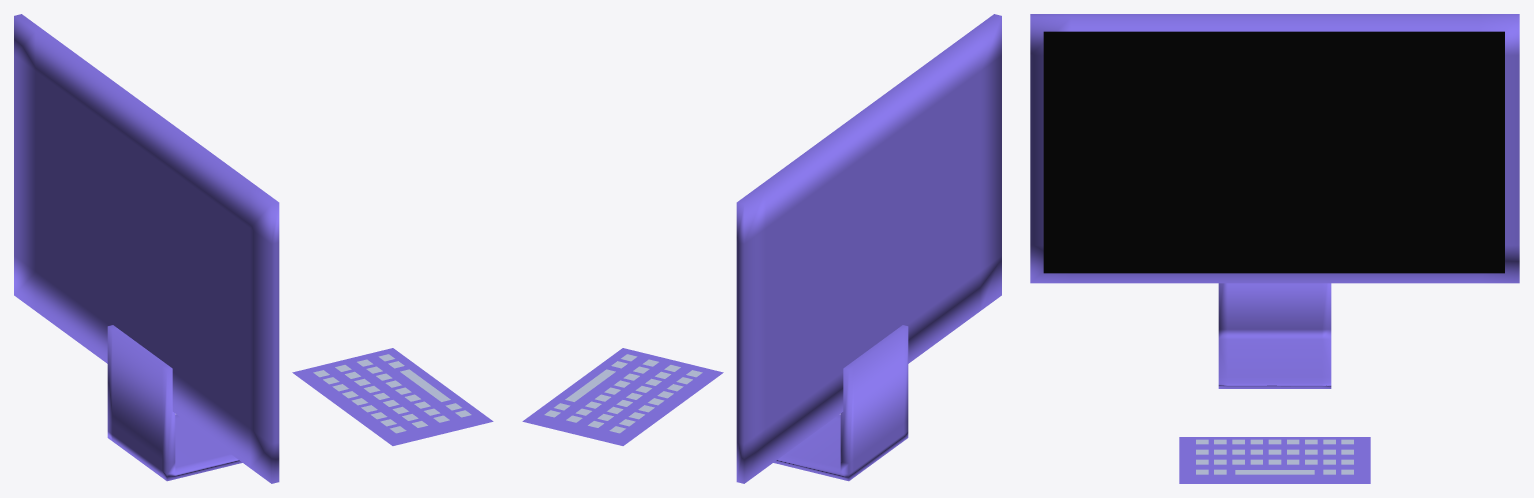
The model's file is computer.glb.
3 views of the same model, side by side, from view 1: azimuth 30°, elevation 25°; view 2: azimuth 150°, elevation 25°; view 3: azimuth 270°, elevation 25° (orthographic). The views are drawn at different scales.
Parts seen in each view (by area): view 1: computer, keyboard; view 2: computer, keyboard; view 3: screen, computer, keyboard.
Boxes of the visible parts, <box> form: computer: <box>14,14,279,483</box>; keyboard: <box>292,348,493,445</box>; computer: <box>736,14,1001,483</box>; keyboard: <box>522,348,723,445</box>; screen: <box>1043,31,1504,273</box>; computer: <box>1030,14,1519,388</box>; keyboard: <box>1179,437,1370,483</box>.
Bounding box in the file's own units: 2.3 × 2.5 × 3.36.
